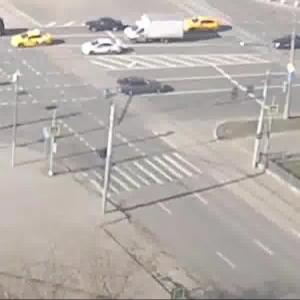car: (130, 16, 187, 42), (114, 73, 163, 95), (10, 31, 59, 52), (177, 13, 216, 33), (82, 41, 119, 57), (87, 14, 119, 31), (272, 35, 300, 51)
